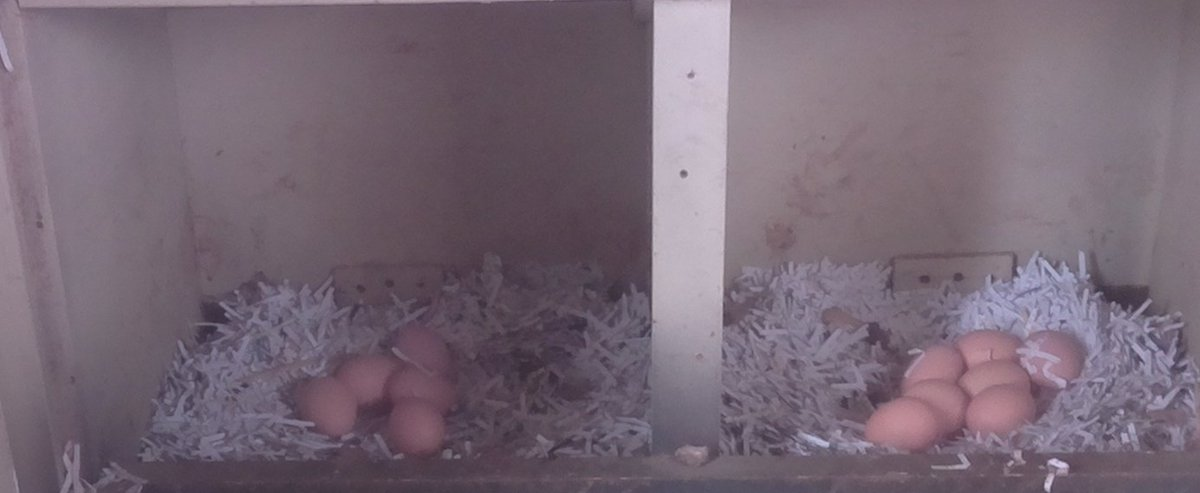egg: (959, 376, 1045, 442), (290, 369, 363, 443), (1018, 324, 1090, 396), (386, 392, 454, 459), (862, 398, 942, 454), (900, 377, 968, 439), (389, 323, 461, 380), (333, 350, 396, 415), (385, 362, 463, 410), (899, 344, 970, 391), (957, 361, 1037, 399), (952, 327, 1024, 362)
